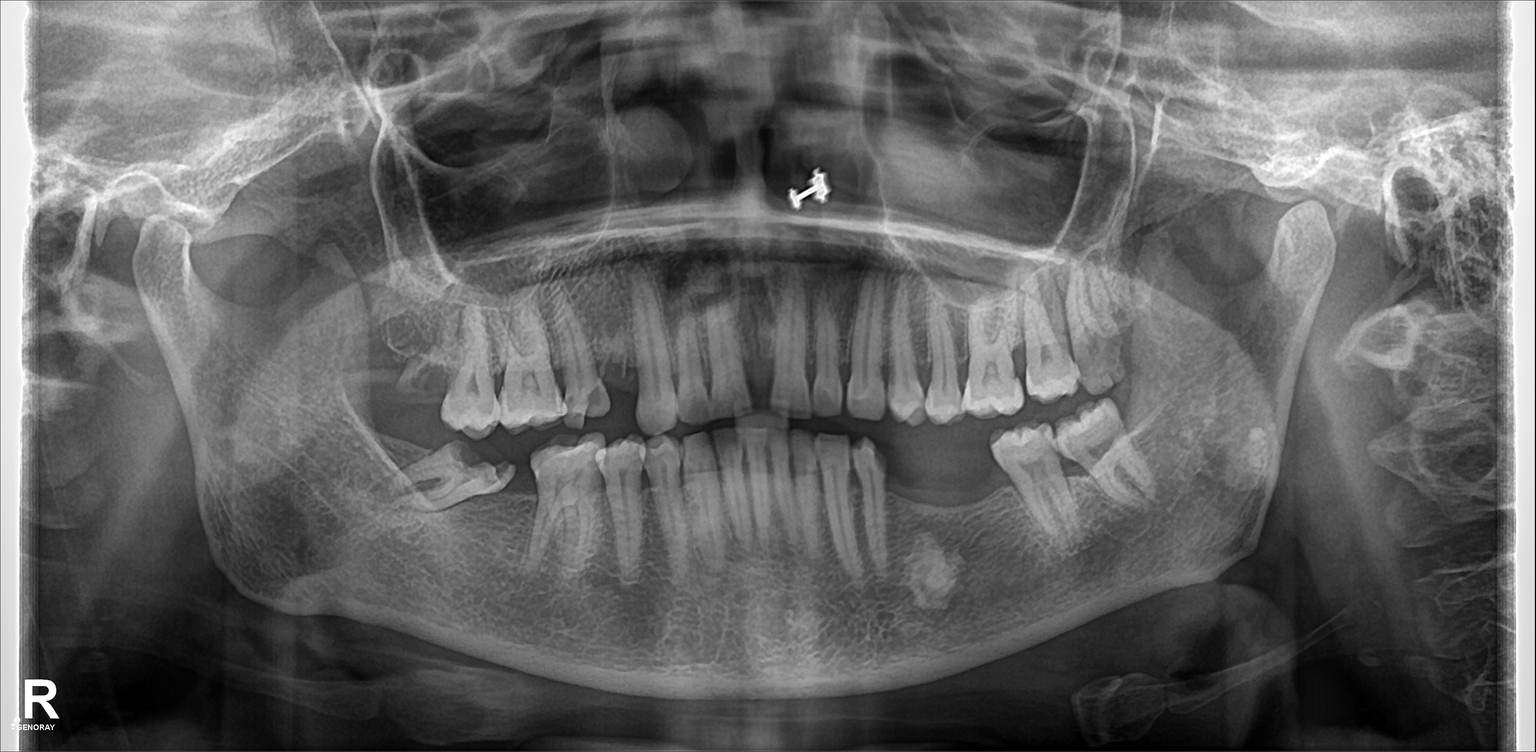Dental Caries: (1086, 335, 1119, 377)
Impacted Third Molar: (372, 438, 508, 499)
Missing Tooth: (944, 445, 998, 541), (350, 309, 402, 401), (892, 458, 933, 560), (348, 430, 381, 538), (507, 452, 536, 545)
Retained Root: (400, 311, 450, 419), (605, 305, 645, 419)
